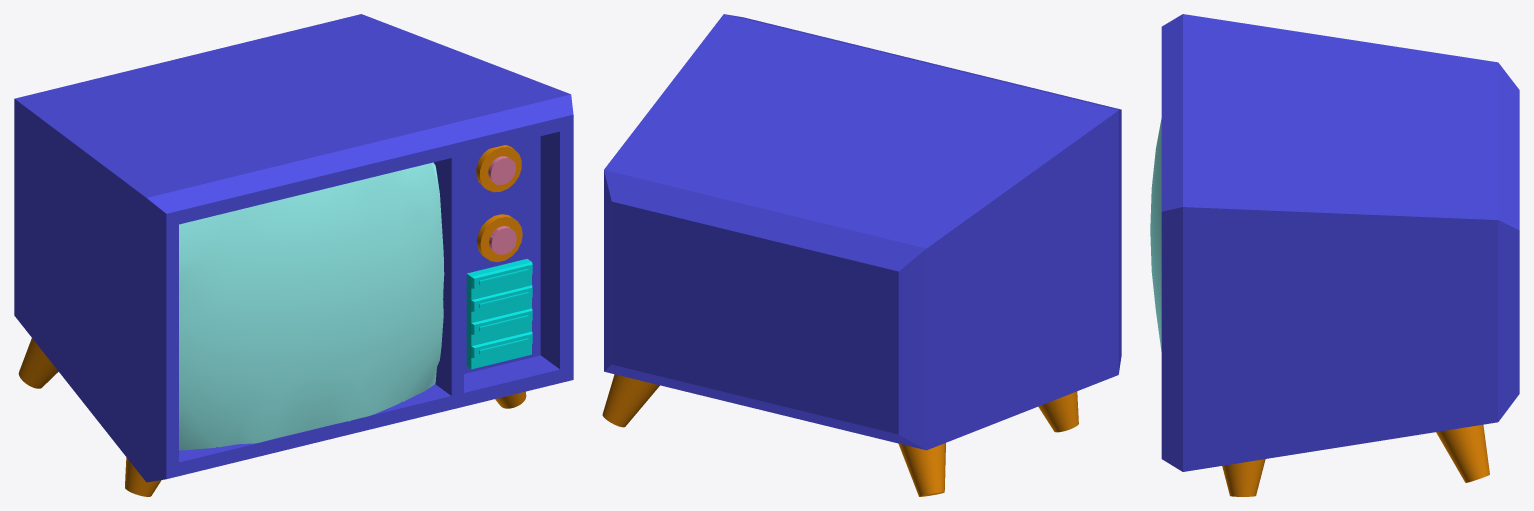
The model's file is level10.1.fbx.
The picture shows the model from 3 angles, left to right: view 1: azimuth 30°, elevation 25°; view 2: azimuth 150°, elevation 25°; view 3: azimuth 270°, elevation 25°; orthographic projection. The views are drawn at different scales.
Visible parts, largest first — view 1: Box003; view 2: Box003; view 3: Box003.
Boxes of the visible parts, x1,y1,x2,y2 form: Box003: (14,14,573,496); Box003: (602,14,1121,496); Box003: (1150,14,1519,496).
Bounding box in the file's own units: 2.8 × 2.07 × 2.27.
